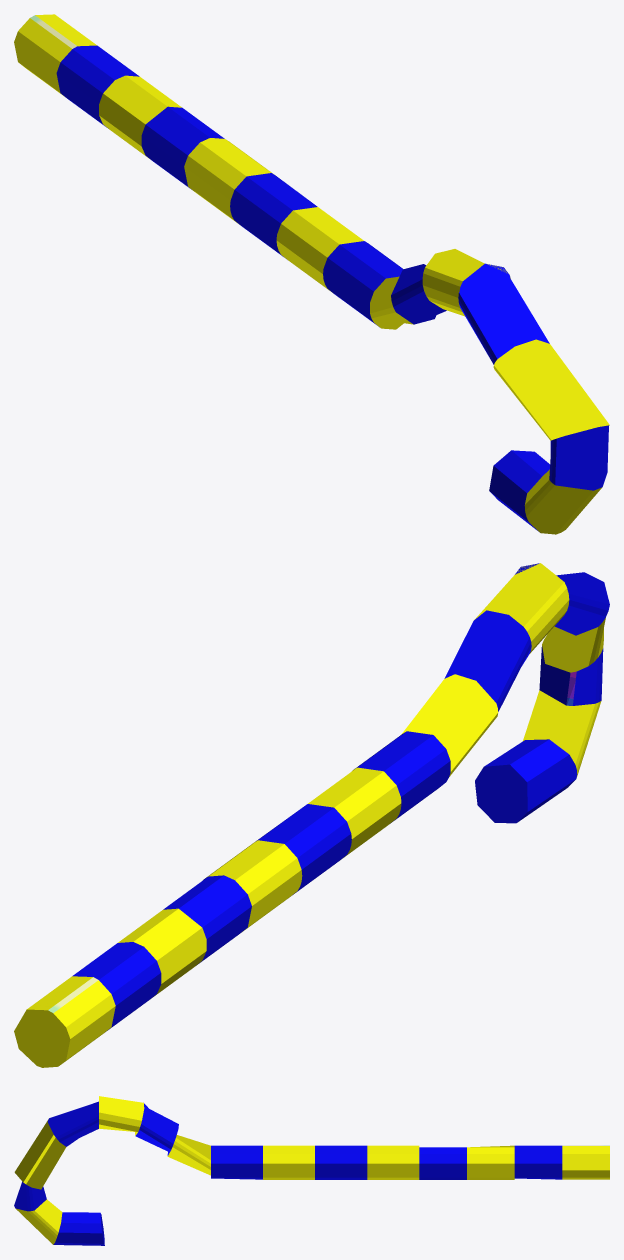
File: mummy staff.fbx
3 views of the same model, one above another, from view 1: azimuth 30°, elevation 25°; view 2: azimuth 150°, elevation 25°; view 3: azimuth 270°, elevation 25° (orthographic). The views are drawn at different scales.
Visible parts, largest first — view 1: Cylinder; view 2: Cylinder; view 3: Cylinder.
Boxes of the visible parts, <box> form: Cylinder: <box>14,14,609,534</box>; Cylinder: <box>14,563,609,1067</box>; Cylinder: <box>14,1096,609,1245</box>.
Bounding box in the file's own units: 91.48 × 253 × 979.
